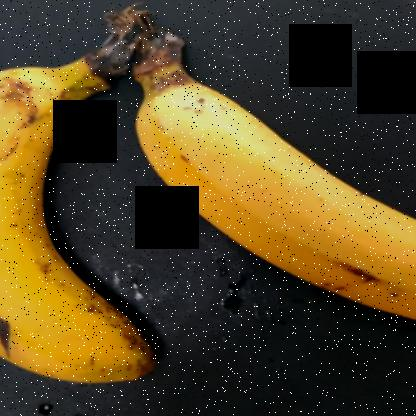freshripe: (129, 94, 416, 322)
ripe: (1, 64, 154, 410)
